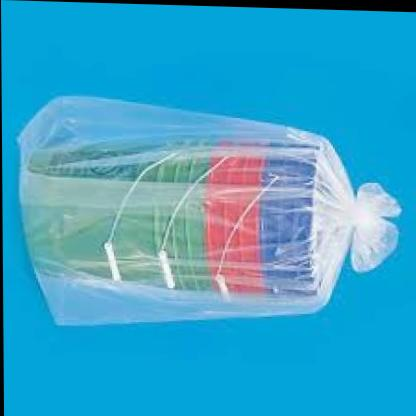Plastic: (20, 76, 380, 370)
